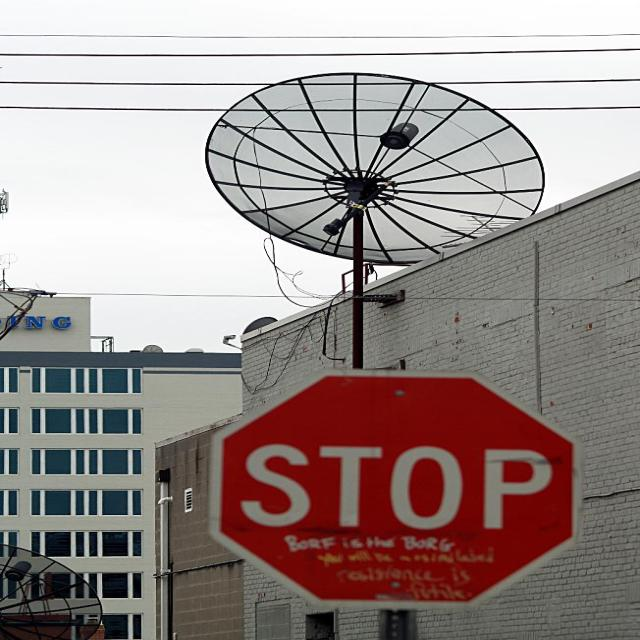Stop-sign: (208, 368, 584, 610)
